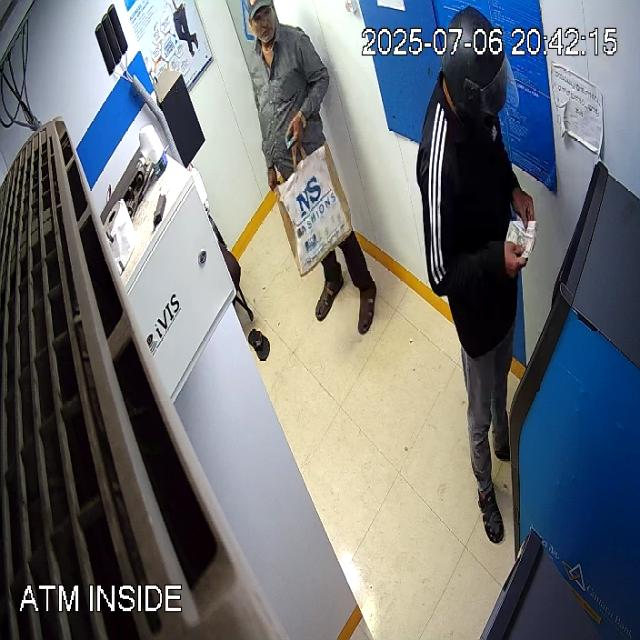helmet: (439, 6, 519, 131)
no_helmet: (247, 0, 277, 48)
